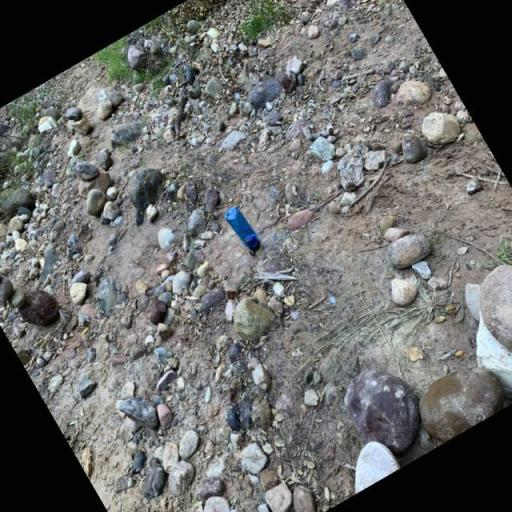bottle: (222, 203, 266, 259)
